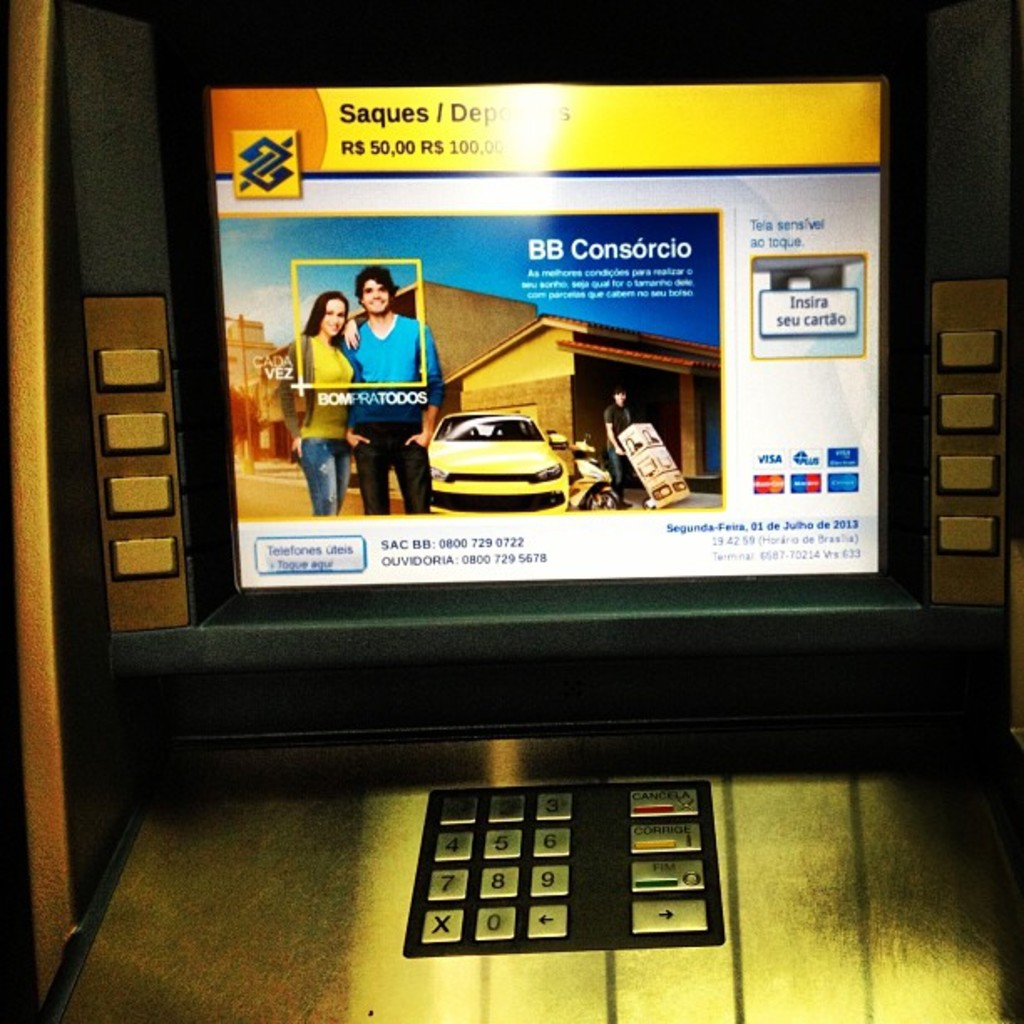Person: (336, 264, 444, 515), (263, 291, 367, 518), (604, 387, 632, 509)
